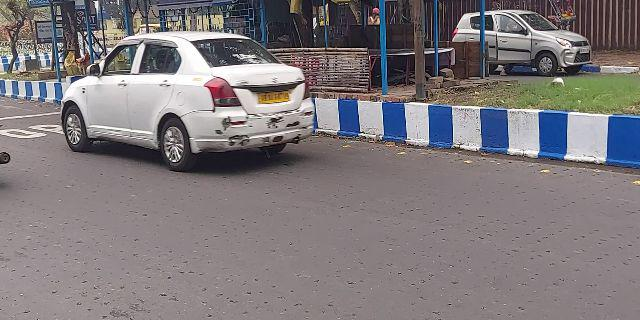Car: (56, 28, 323, 173)
